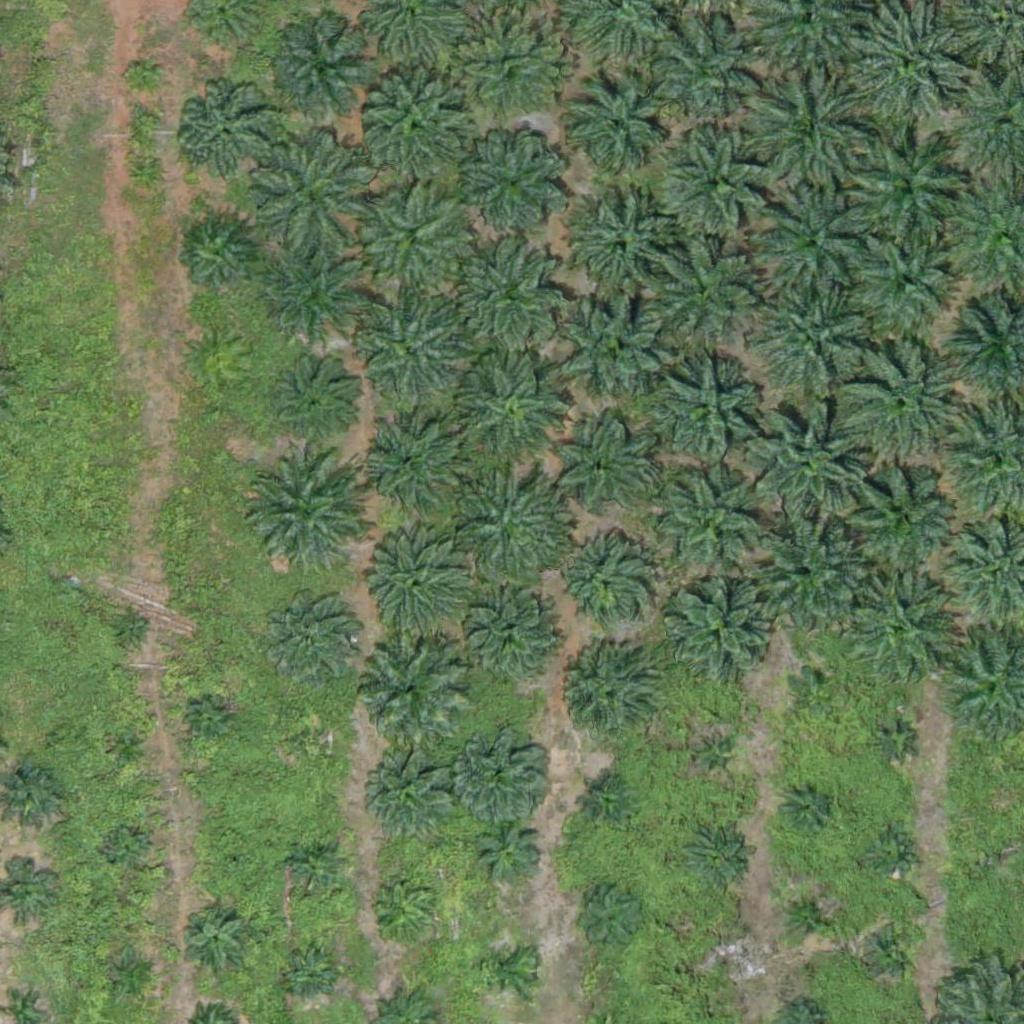Kelapa_Sawit: (736, 70, 861, 196), (246, 129, 371, 255), (239, 449, 364, 575), (649, 463, 774, 589), (752, 178, 877, 304), (750, 272, 875, 398), (745, 407, 870, 533), (745, 522, 870, 648), (842, 117, 967, 243), (846, 216, 971, 342), (842, 337, 967, 463), (832, 450, 957, 576), (451, 464, 576, 589), (449, 11, 562, 124), (361, 72, 474, 185), (459, 122, 572, 235), (567, 192, 680, 305), (350, 632, 463, 745), (454, 237, 567, 350), (454, 350, 567, 463), (552, 288, 665, 401), (666, 578, 779, 691), (646, 239, 758, 353), (653, 17, 765, 130), (560, 70, 672, 183), (661, 126, 773, 239), (359, 188, 471, 301), (260, 239, 372, 352), (355, 295, 467, 408), (357, 528, 469, 641), (648, 352, 760, 465), (845, 578, 957, 691), (271, 21, 371, 122), (260, 588, 360, 689), (363, 416, 463, 517), (461, 588, 561, 689), (551, 416, 651, 517), (553, 533, 653, 634), (551, 646, 651, 747), (456, 723, 556, 824), (175, 84, 275, 184), (272, 353, 359, 441), (369, 756, 456, 844), (181, 218, 256, 294), (570, 879, 645, 954), (1, 763, 64, 826), (284, 836, 347, 899), (181, 905, 243, 968), (686, 827, 748, 890), (477, 818, 539, 881), (375, 881, 437, 944), (483, 941, 533, 992), (783, 888, 833, 939), (282, 948, 332, 998), (781, 779, 831, 829), (867, 926, 917, 976), (870, 716, 920, 766), (866, 827, 916, 877), (686, 731, 736, 781), (789, 662, 839, 712), (106, 827, 144, 865), (110, 729, 148, 767), (111, 610, 149, 648), (113, 953, 151, 991), (125, 61, 162, 99), (588, 785, 626, 822), (296, 723, 334, 760), (192, 703, 229, 741), (713, 942, 738, 967), (223, 853, 248, 878)
